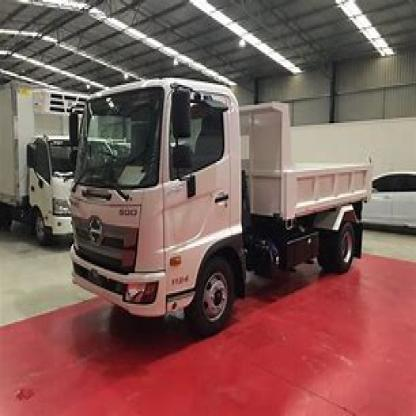dump_truck: (63, 61, 386, 348)
